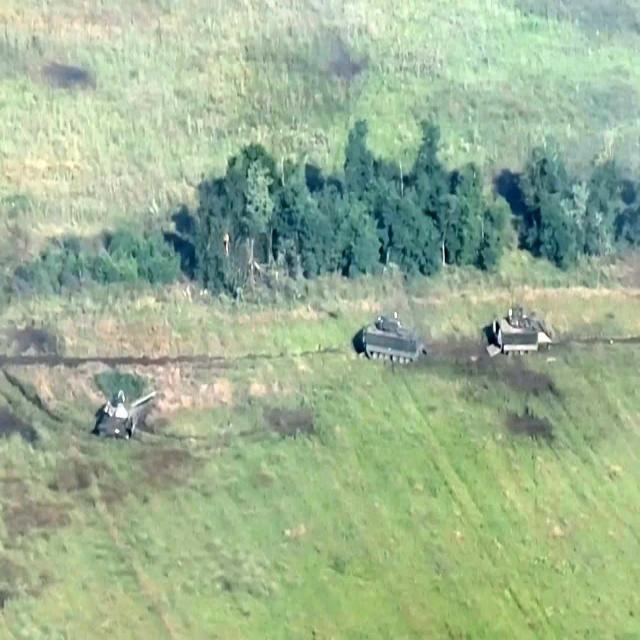AIFV: (358, 312, 426, 370), (492, 306, 553, 357)
MBT: (95, 386, 161, 448)
